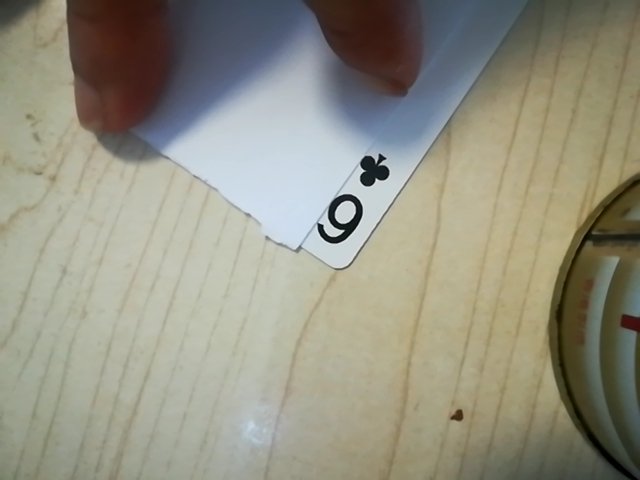mh 6: (304, 146, 403, 258)
